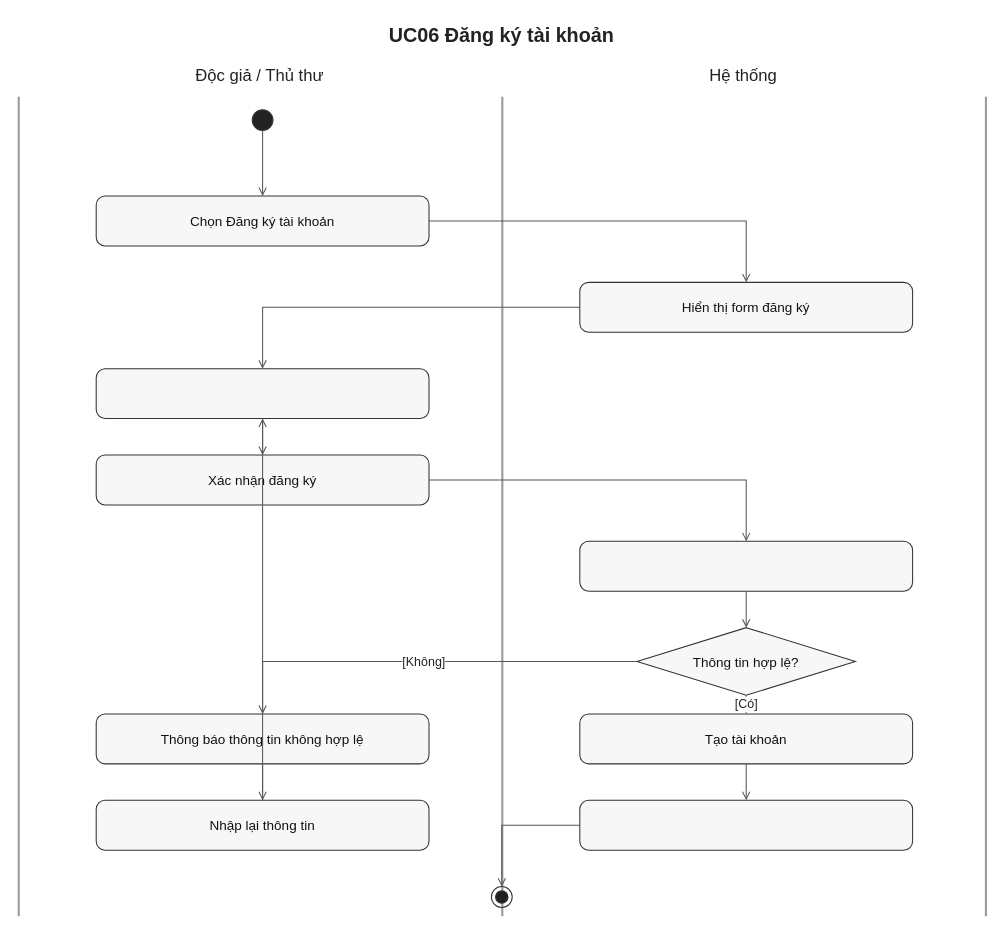
This 1005x934 diagram has some shape labels left out. Here are the shapes that lost their labels. From the top down, the box of each, then its label:
(95, 368, 429, 419): Nhập thông tin đăng ký
(579, 540, 913, 591): Kiểm tra thông tin
(579, 799, 913, 850): Thông báo đăng ký thành công
